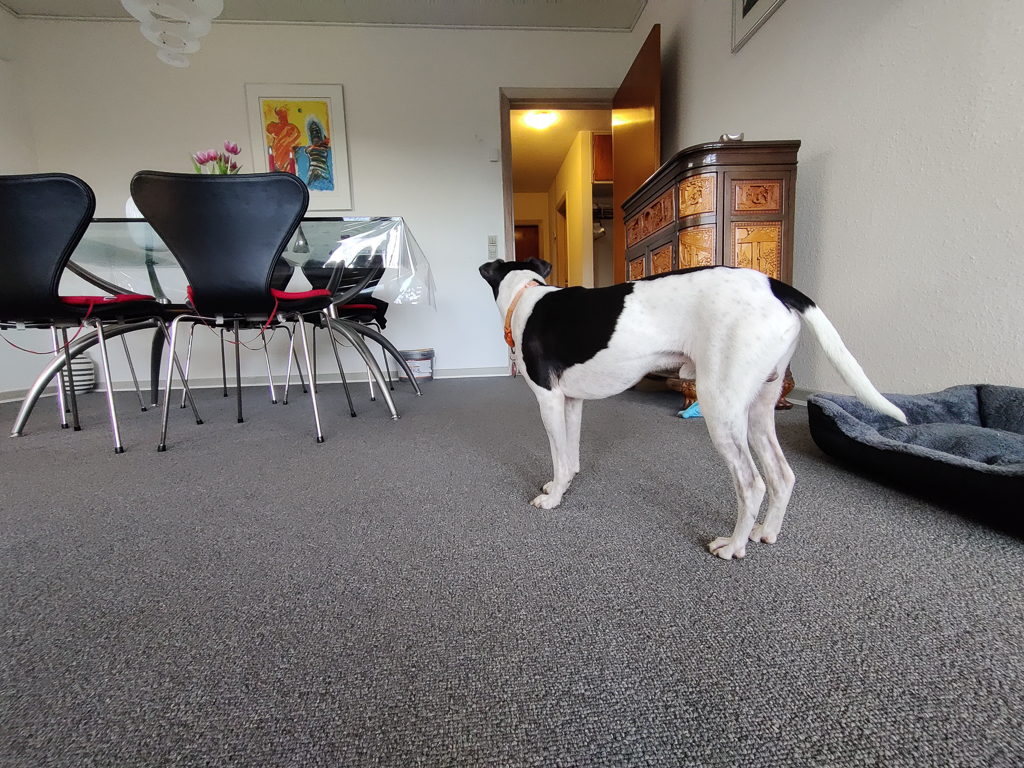Dog: (458, 245, 919, 565)
